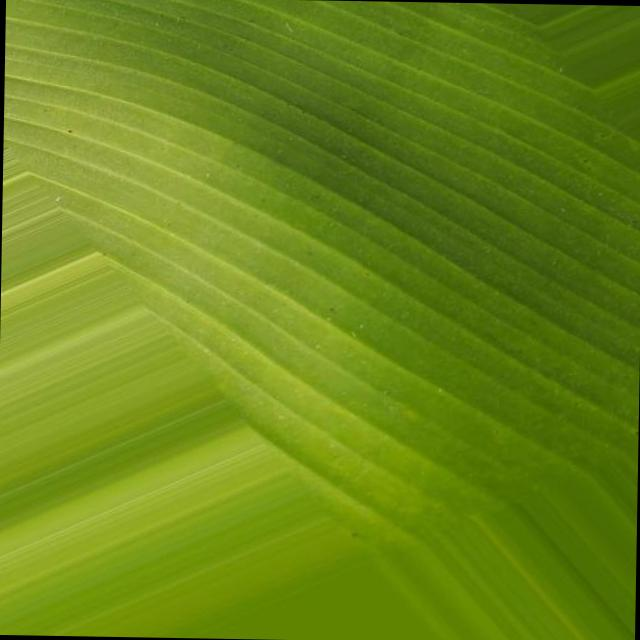Banana_Healthy: (226, 205, 640, 640), (2, 0, 240, 202)
